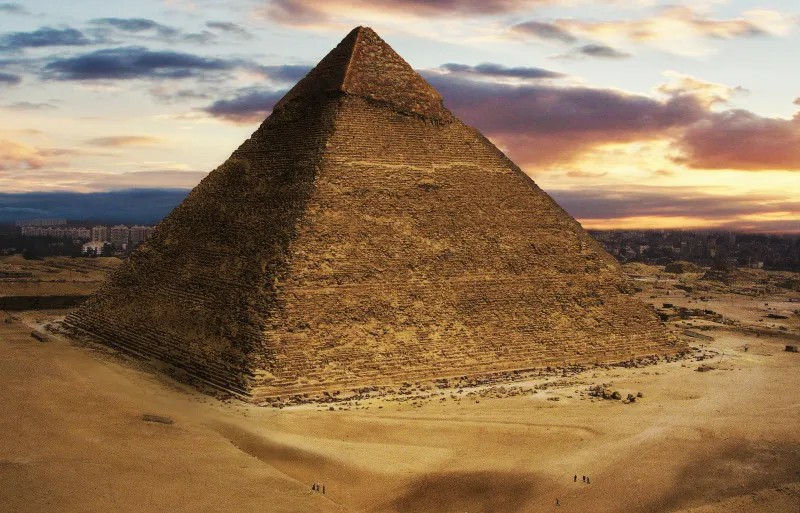Pyramid: (64, 25, 695, 401)
